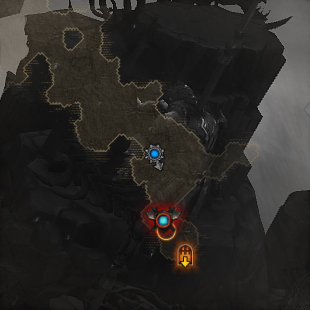Exit: (176, 242, 194, 268)
